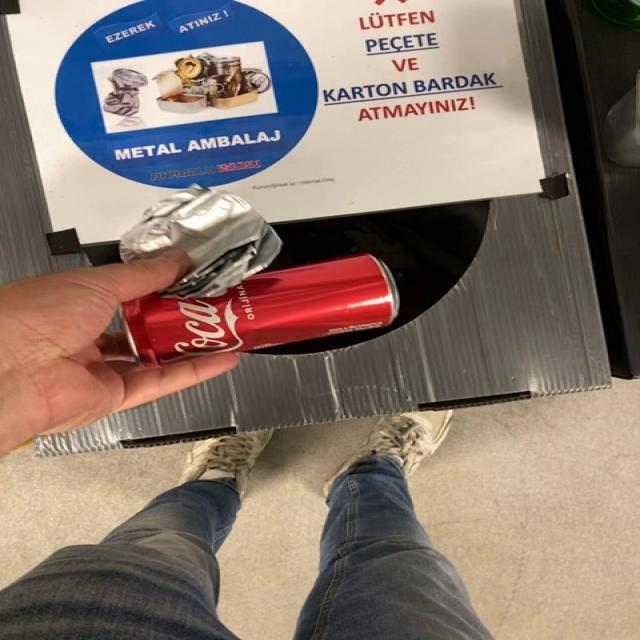Bin: (1, 0, 611, 456)
Metal: (123, 254, 400, 366)
